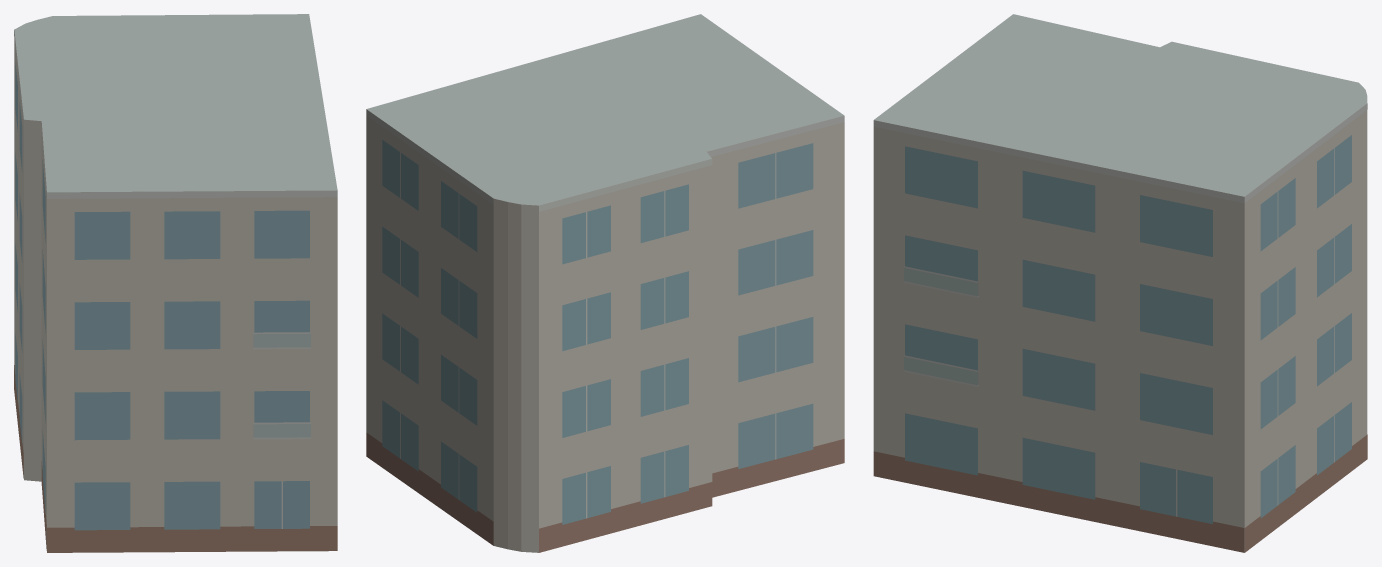
Rendered from survey-upis-32911884.glb.
The picture shows the model from 3 angles, left to right: view 1: azimuth 30°, elevation 25°; view 2: azimuth 150°, elevation 25°; view 3: azimuth 270°, elevation 25°; orthographic projection. The views are drawn at different scales.
Parts seen in each view (by area): view 1: survey-upis-32911884.tmp; view 2: survey-upis-32911884.tmp; view 3: survey-upis-32911884.tmp.
Boxes of the visible parts, x1,y1,x2,y2 form: survey-upis-32911884.tmp: (14,14,337,552); survey-upis-32911884.tmp: (366,14,844,552); survey-upis-32911884.tmp: (873,14,1367,552).
Bounding box in the file's own units: 14.66 × 13.3 × 16.73.
